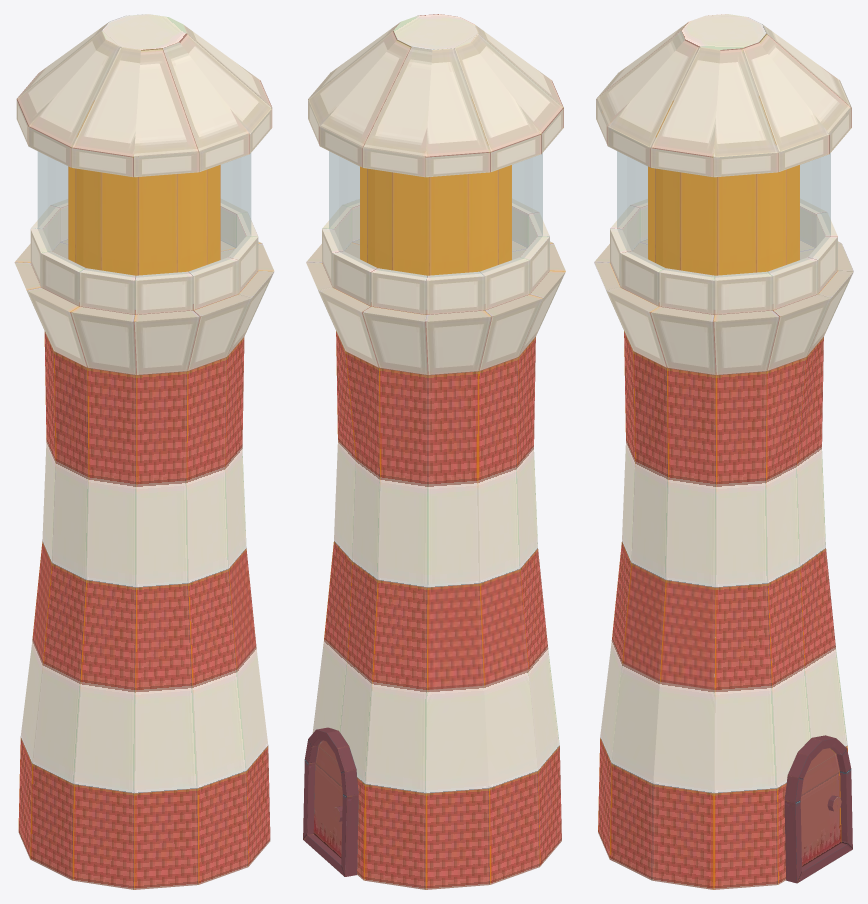
File: lighthouse.glb
3 views of the same model, side by side, from view 1: azimuth 30°, elevation 25°; view 2: azimuth 150°, elevation 25°; view 3: azimuth 270°, elevation 25° (orthographic).
Visible parts, largest first — view 1: Lighthouse.001_Sprytile_tilemap.008_0, Lighthouse.001_Sprytile_tilemap_0, Lighthouse.001_Glass_0; view 2: Lighthouse.001_Sprytile_tilemap.008_0, Lighthouse.001_Sprytile_tilemap_0, Lighthouse.001_Glass_0; view 3: Lighthouse.001_Sprytile_tilemap.008_0, Lighthouse.001_Sprytile_tilemap_0, Lighthouse.001_Glass_0.
Boxes of the visible parts, box(x1,y1,x2,y2) form: Lighthouse.001_Sprytile_tilemap.008_0: box(18, 14, 270, 889); Lighthouse.001_Sprytile_tilemap_0: box(14, 22, 274, 670); Lighthouse.001_Glass_0: box(37, 151, 251, 277); Lighthouse.001_Sprytile_tilemap.008_0: box(303, 14, 561, 889); Lighthouse.001_Sprytile_tilemap_0: box(306, 22, 565, 821); Lighthouse.001_Glass_0: box(329, 151, 542, 277); Lighthouse.001_Sprytile_tilemap.008_0: box(598, 14, 852, 889); Lighthouse.001_Sprytile_tilemap_0: box(594, 22, 853, 811); Lighthouse.001_Glass_0: box(617, 151, 830, 277).
Size of the model in its own units: 154 by 526 by 154.
3 materials, 2 textured.
